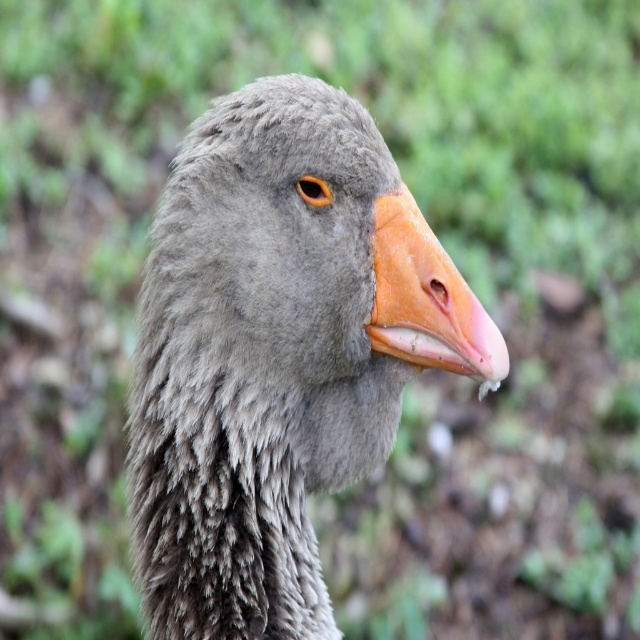Goose: (99, 89, 501, 640)
